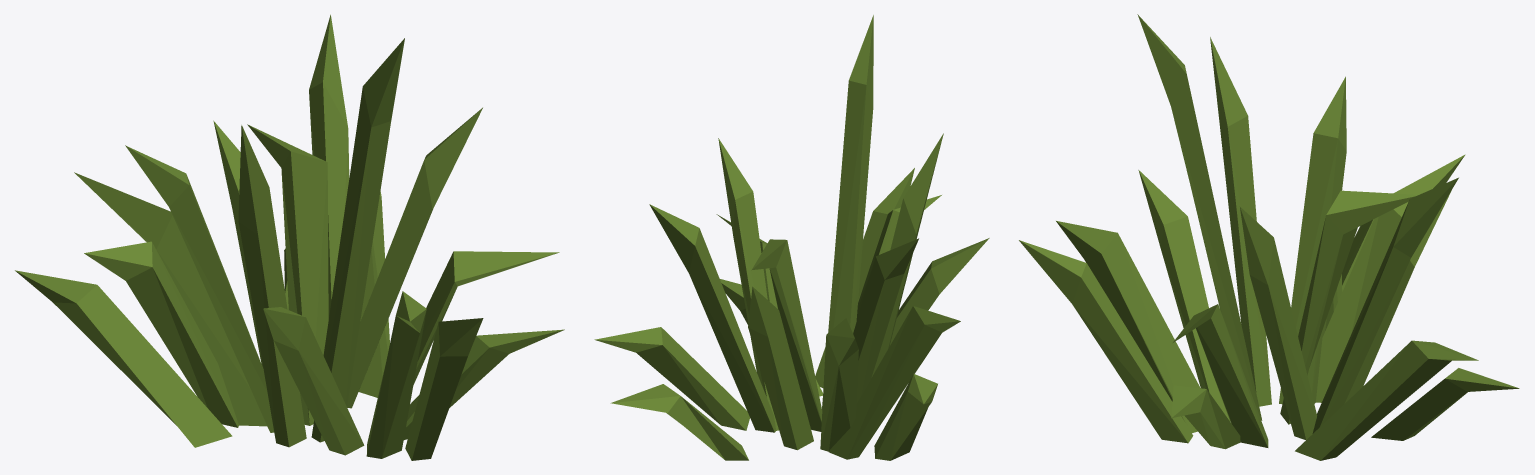
Rendered from Grass1.fbx.
3 views of the same model, side by side, from view 1: azimuth 30°, elevation 25°; view 2: azimuth 150°, elevation 25°; view 3: azimuth 270°, elevation 25° (orthographic). The views are drawn at different scales.
Parts seen in each view (by area): view 1: Grass1; view 2: Grass1; view 3: Grass1.
Part boxes in pixels (x1,y1,x2,y2): Grass1: (15,14,564,460); Grass1: (594,15,989,460); Grass1: (1019,14,1519,460).
Size of the model in its own units: 111 by 116 by 129.
